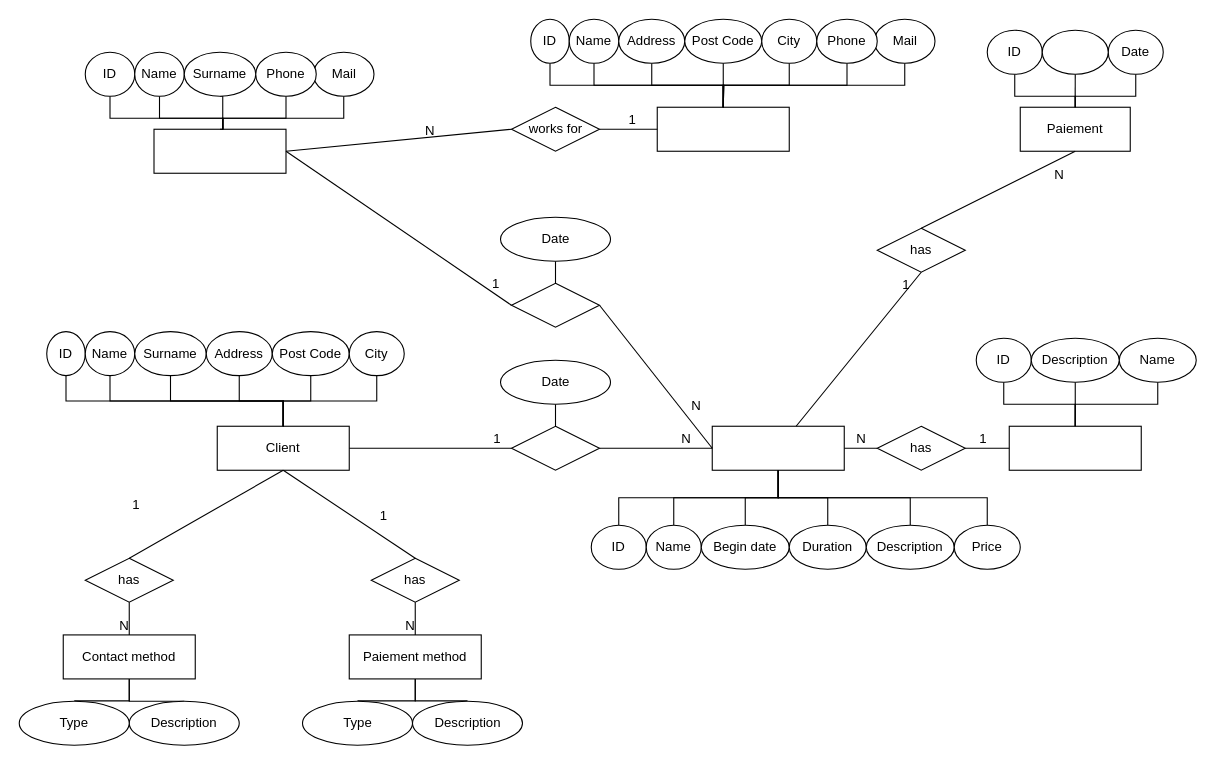
Image size: 1216x765. Some labels were removed from this diagram. The shapes that lost their labels are listed below. From the top down, each one's centre as x and y in pixels, then its label:
At (1074,51): "Amount".
At (722,128): "Agency".
At (219,150): "Employee".
At (555,304): "sells".
At (555,447): "buys".
At (777,447): "Trip".
At (1074,447): "Category".
